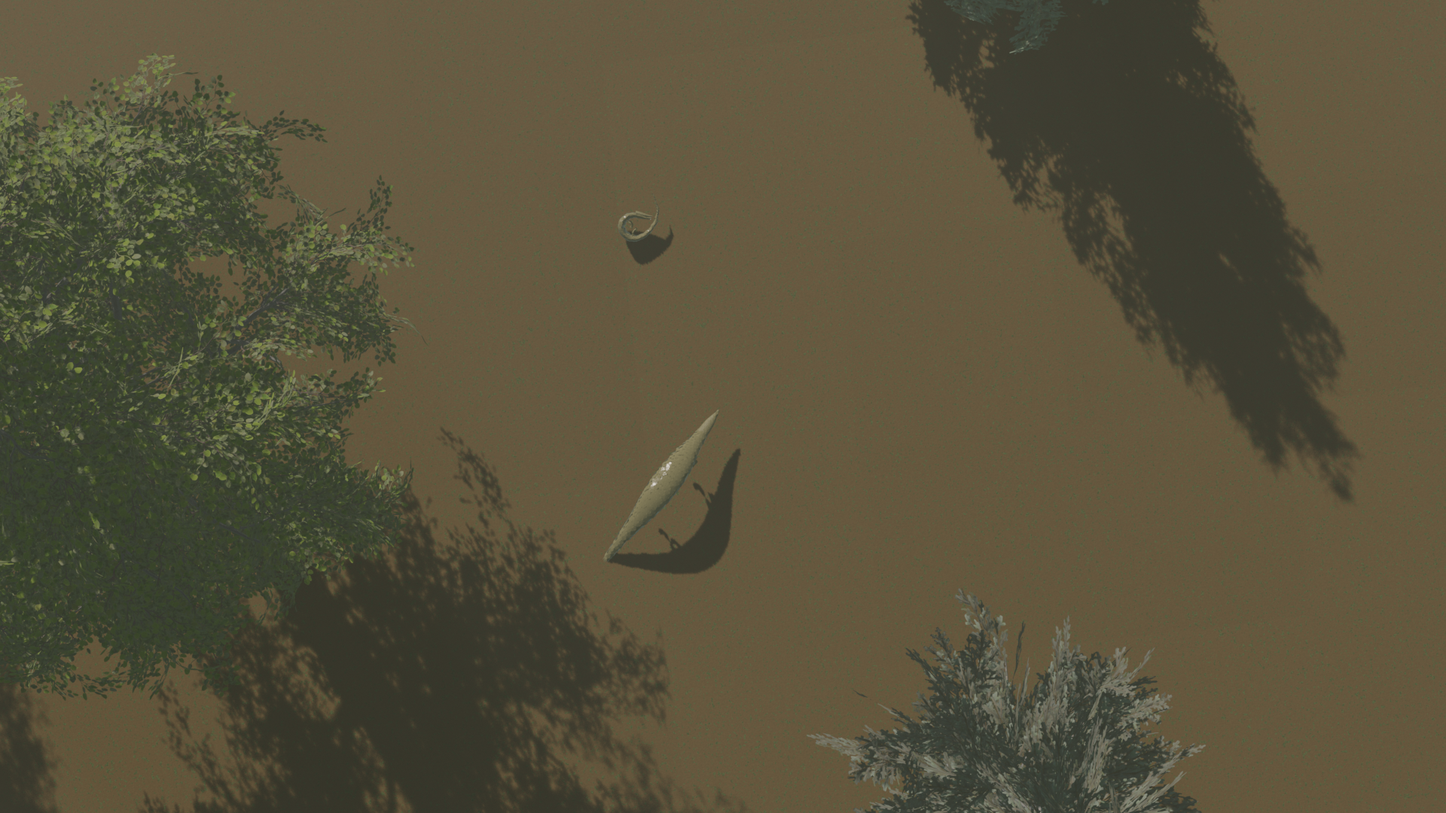pangolin: (582, 402, 728, 595), (618, 191, 660, 243)
